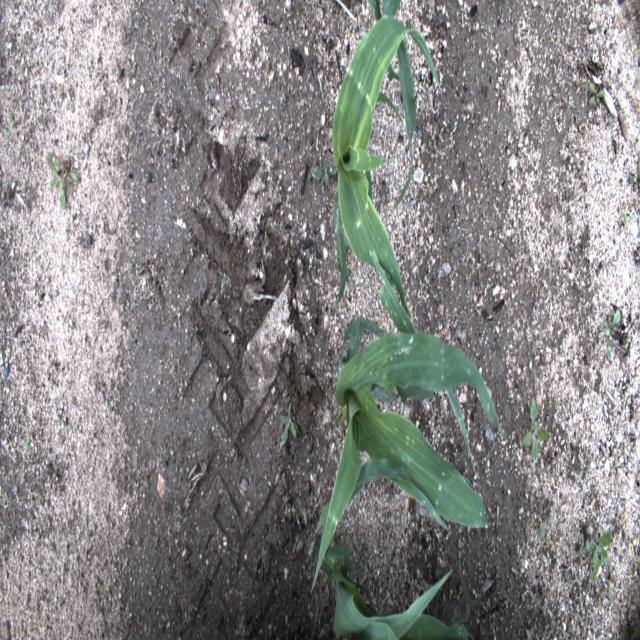crop: (310, 249, 500, 594), (330, 14, 442, 319), (310, 458, 485, 638), (368, 0, 416, 215)
weed: (520, 397, 552, 463), (46, 156, 81, 210), (585, 526, 612, 580), (278, 402, 297, 449), (311, 158, 341, 186), (587, 73, 605, 108), (603, 307, 622, 337), (53, 413, 74, 435), (330, 408, 344, 438), (605, 569, 617, 599), (632, 150, 640, 182), (5, 118, 15, 140), (333, 239, 350, 251), (337, 409, 347, 427), (23, 433, 31, 453), (103, 390, 111, 408), (606, 342, 613, 362), (620, 212, 630, 226), (462, 474, 471, 488), (538, 522, 544, 540), (570, 103, 576, 110)
